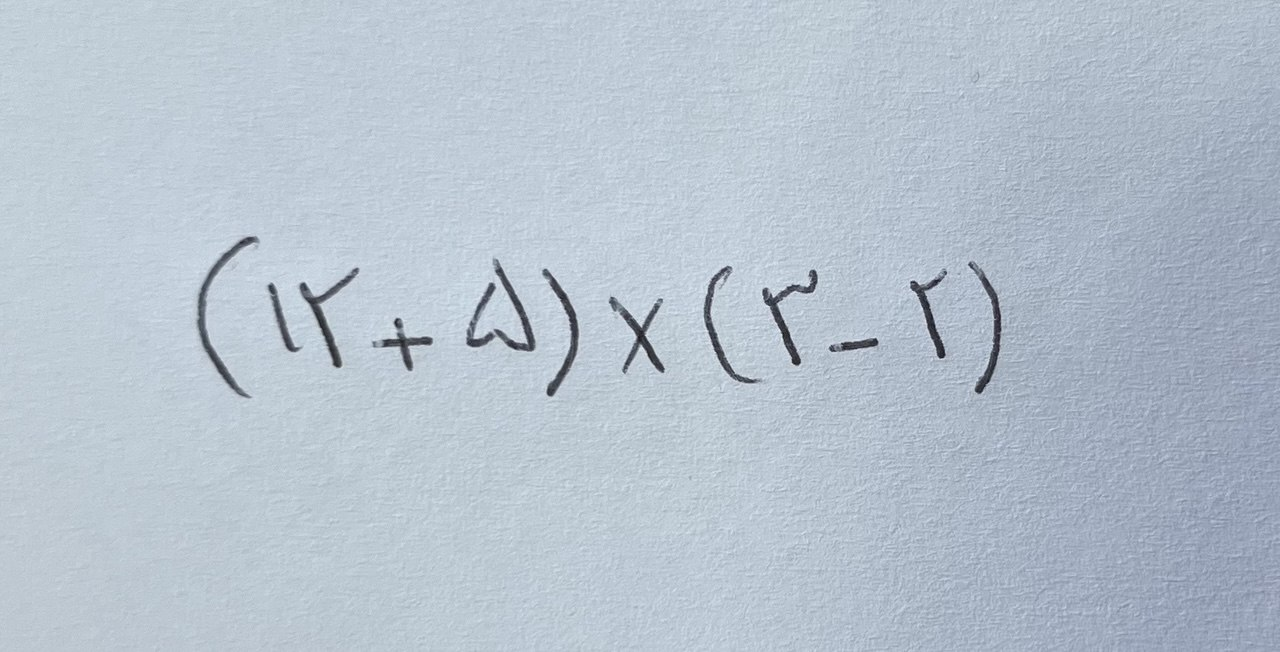character: (196, 234, 263, 401), (702, 263, 767, 383), (465, 255, 539, 353), (299, 265, 364, 368), (761, 268, 818, 367), (967, 258, 1004, 394), (541, 266, 579, 397), (610, 295, 668, 375), (371, 316, 436, 372), (908, 268, 948, 359), (268, 280, 308, 353), (828, 337, 879, 354)
